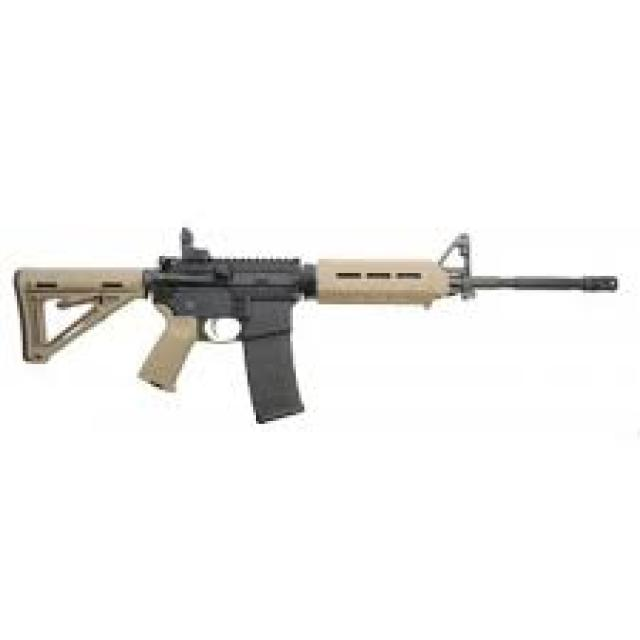rifle: (16, 221, 621, 440)
